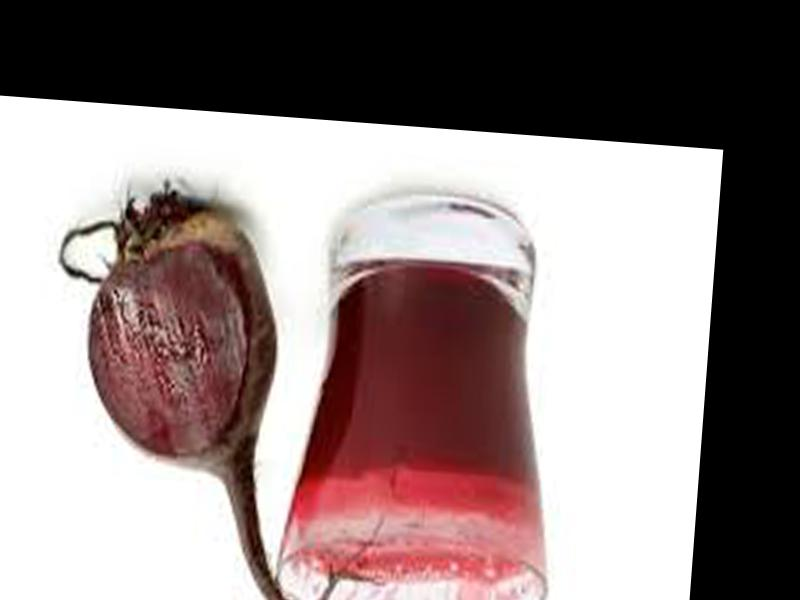Beet: (34, 178, 400, 600)
